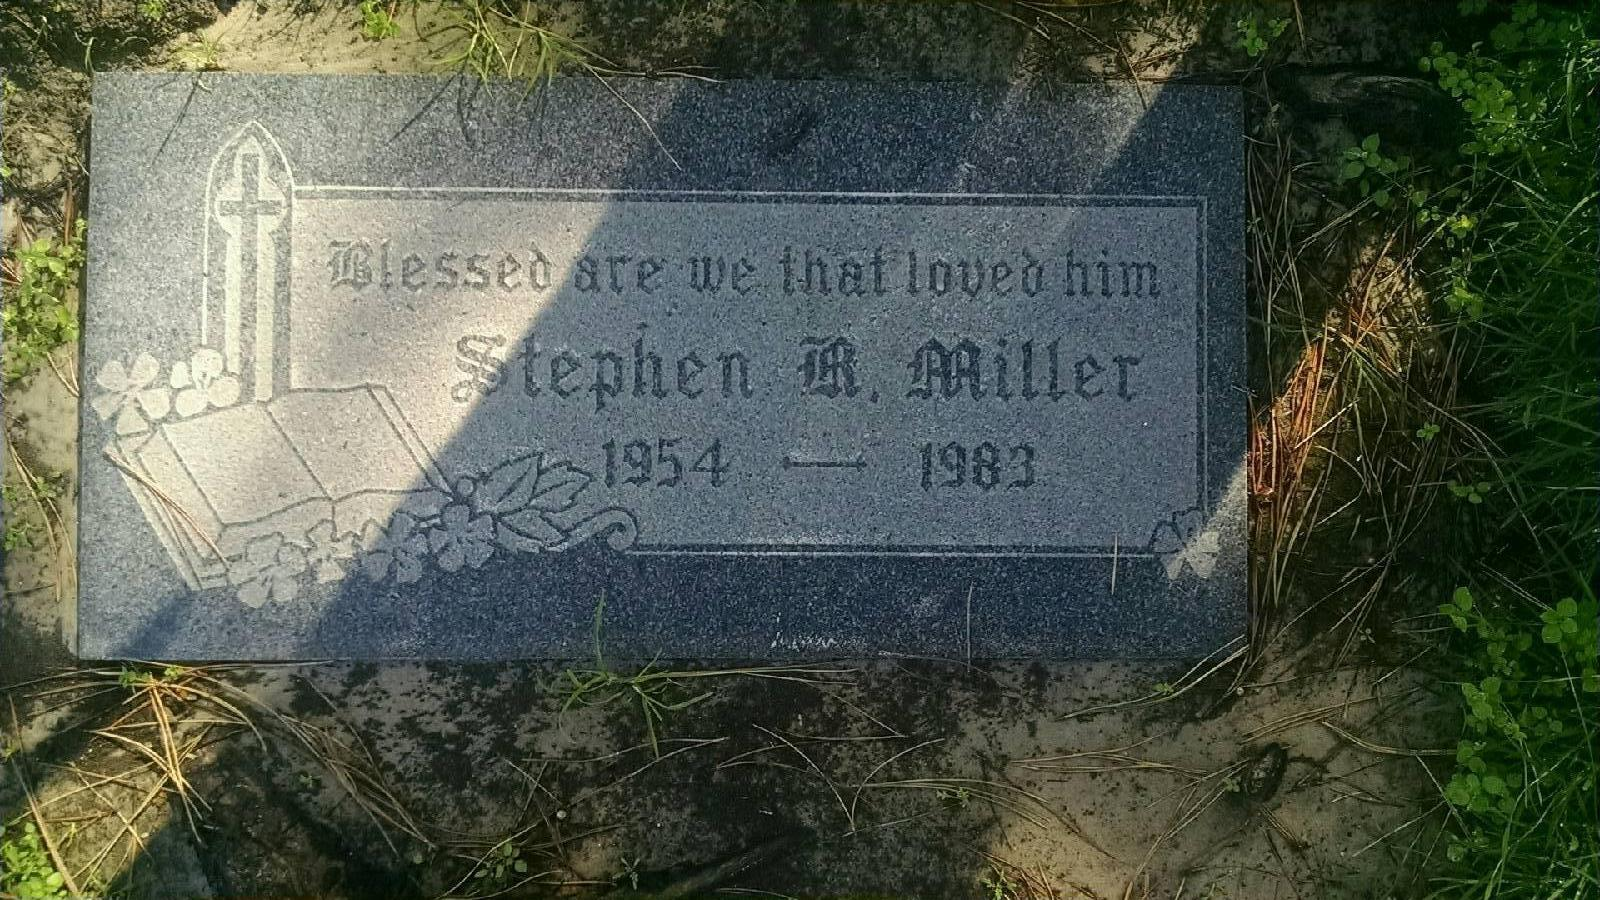flat: (69, 40, 1316, 682)
